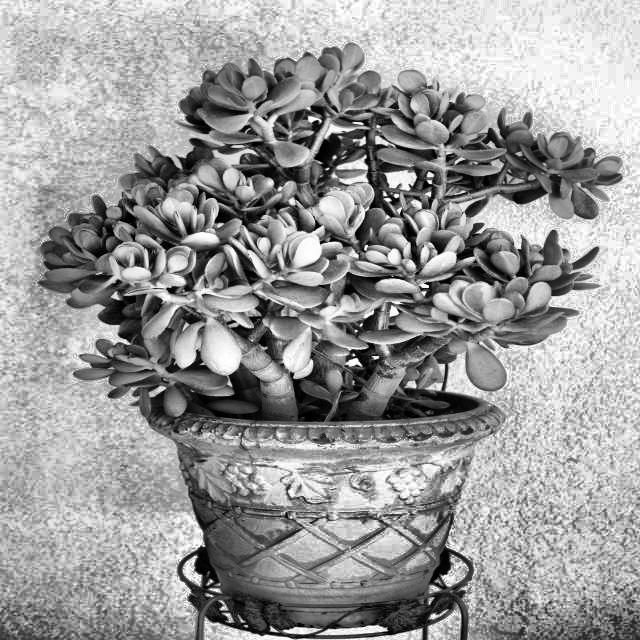plants: (43, 46, 623, 578)
